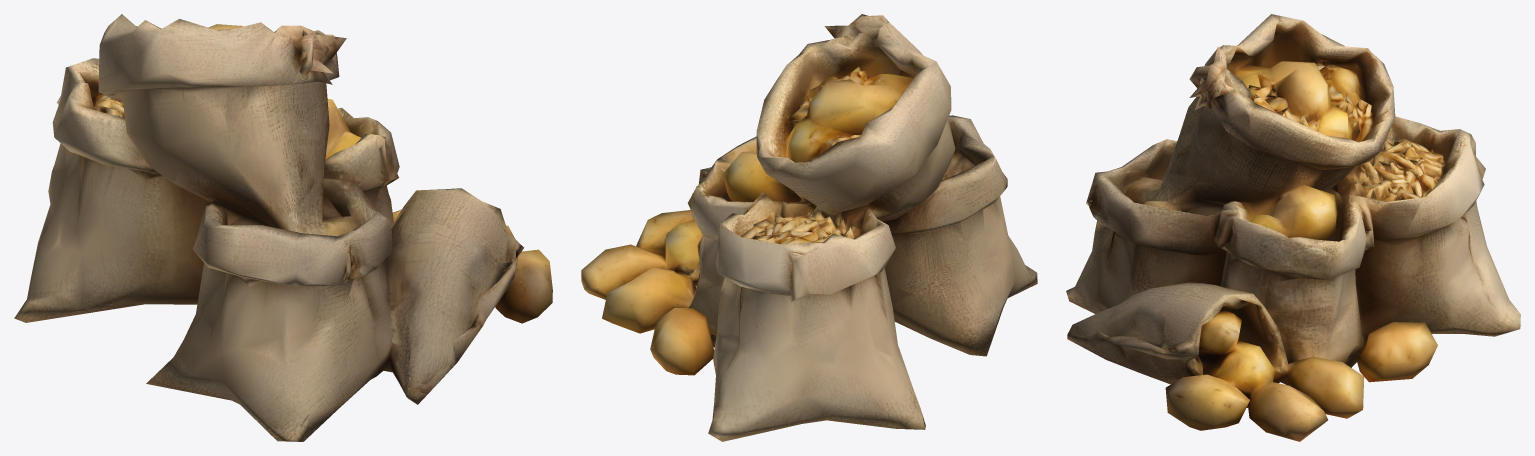
File: kh_sacks.glb
3 views of the same model, side by side, from view 1: azimuth 30°, elevation 25°; view 2: azimuth 150°, elevation 25°; view 3: azimuth 270°, elevation 25° (orthographic). The views are drawn at different scales.
Visible parts, largest first — view 1: tripo_node_8d65f215-5930-4d89-ad6c-67450bdc3840; view 2: tripo_node_8d65f215-5930-4d89-ad6c-67450bdc3840; view 3: tripo_node_8d65f215-5930-4d89-ad6c-67450bdc3840.
Part boxes in pixels (x1=…): tripo_node_8d65f215-5930-4d89-ad6c-67450bdc3840: x1=14, y1=14, x2=552, y2=441; tripo_node_8d65f215-5930-4d89-ad6c-67450bdc3840: x1=581, y1=14, x2=1037, y2=441; tripo_node_8d65f215-5930-4d89-ad6c-67450bdc3840: x1=1066, y1=14, x2=1520, y2=441.
Size of the model in its own units: 0.9251 by 0.6873 by 1.
1 material, 1 textured.
